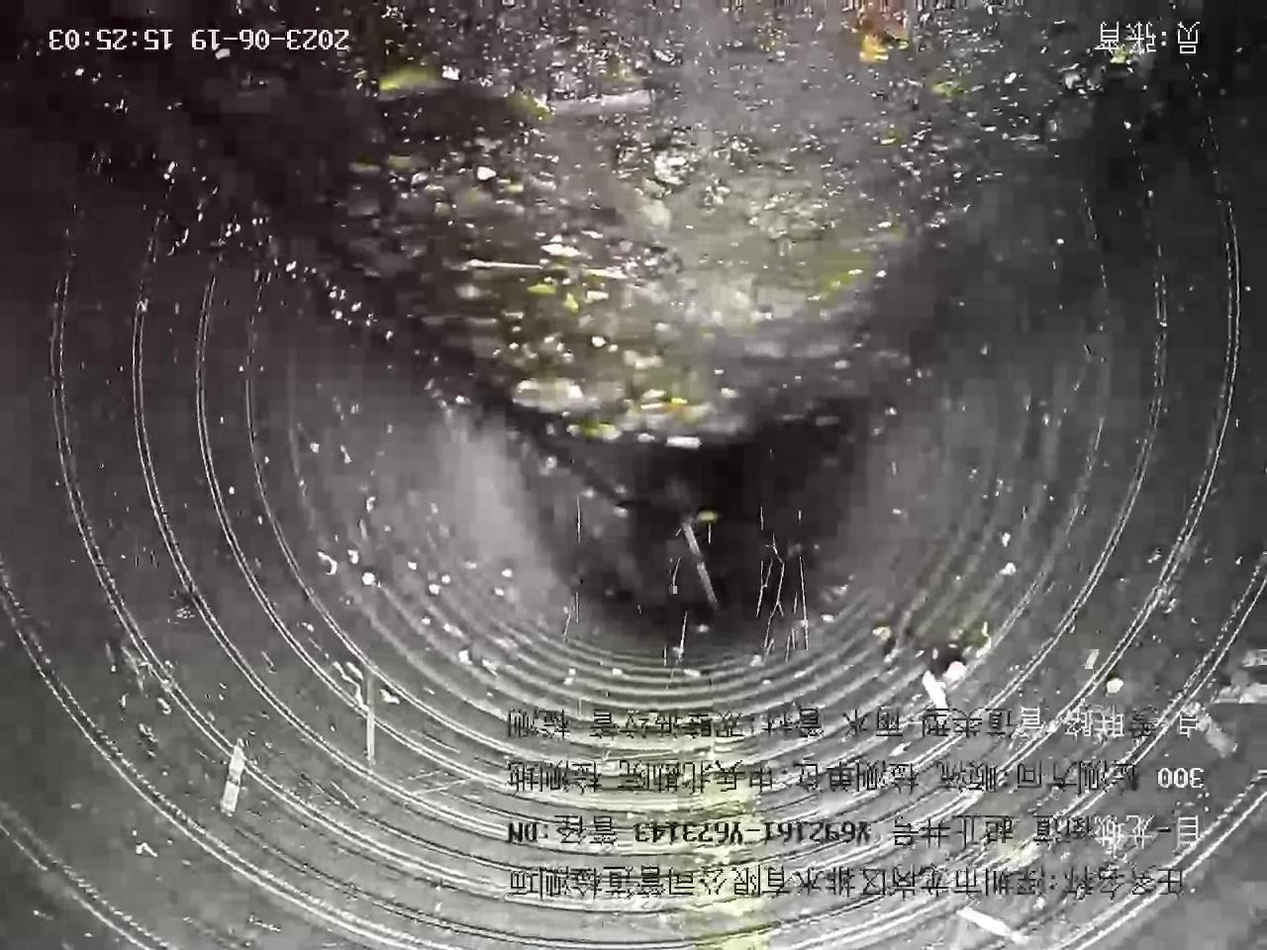FZ: (201, 1, 1122, 452)
